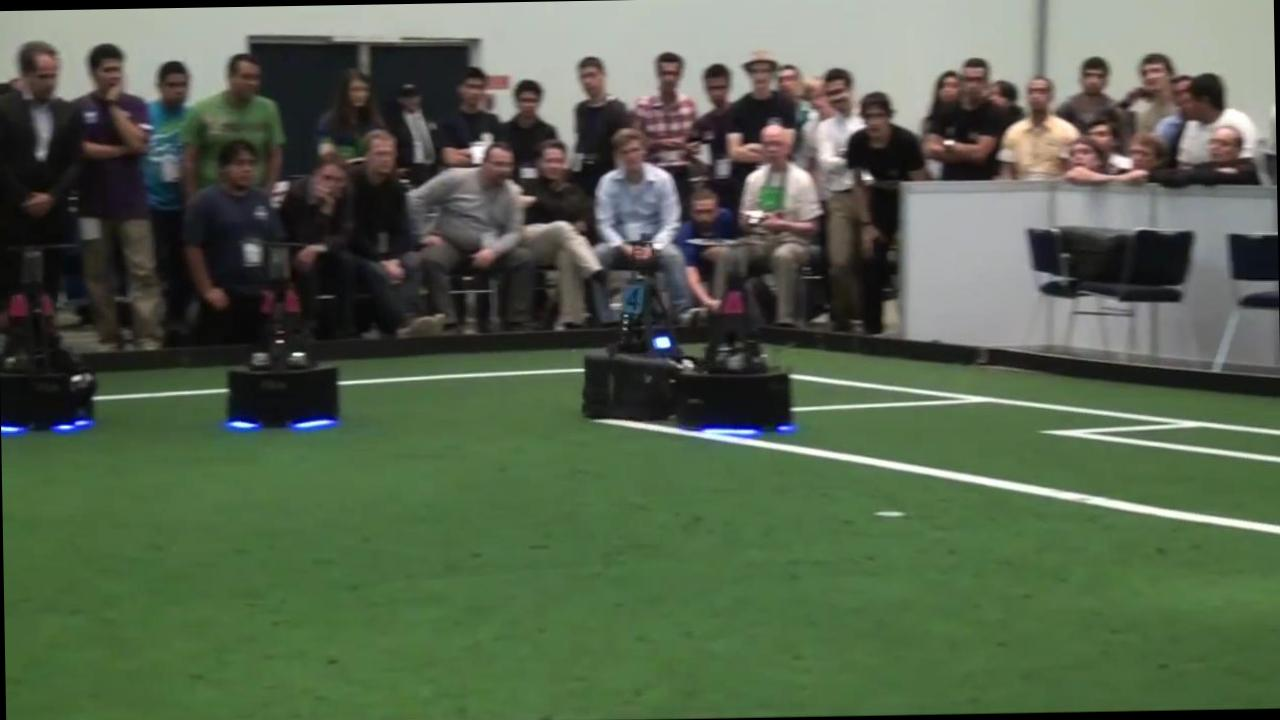robot: (229, 244, 339, 430), (0, 245, 95, 432), (675, 276, 791, 429), (583, 242, 680, 420)
